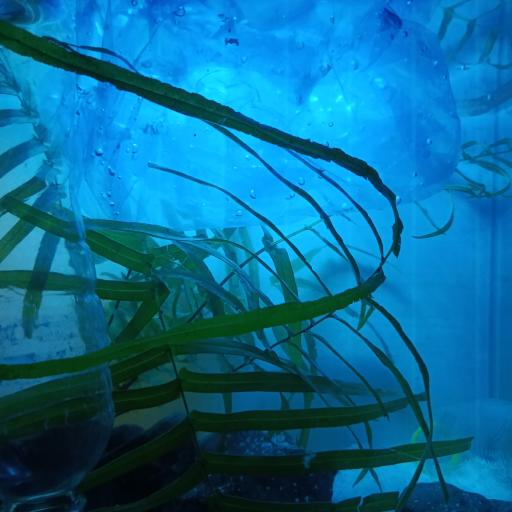plastic_bag: (70, 0, 466, 227)
plastic_bottle: (0, 0, 115, 512)
